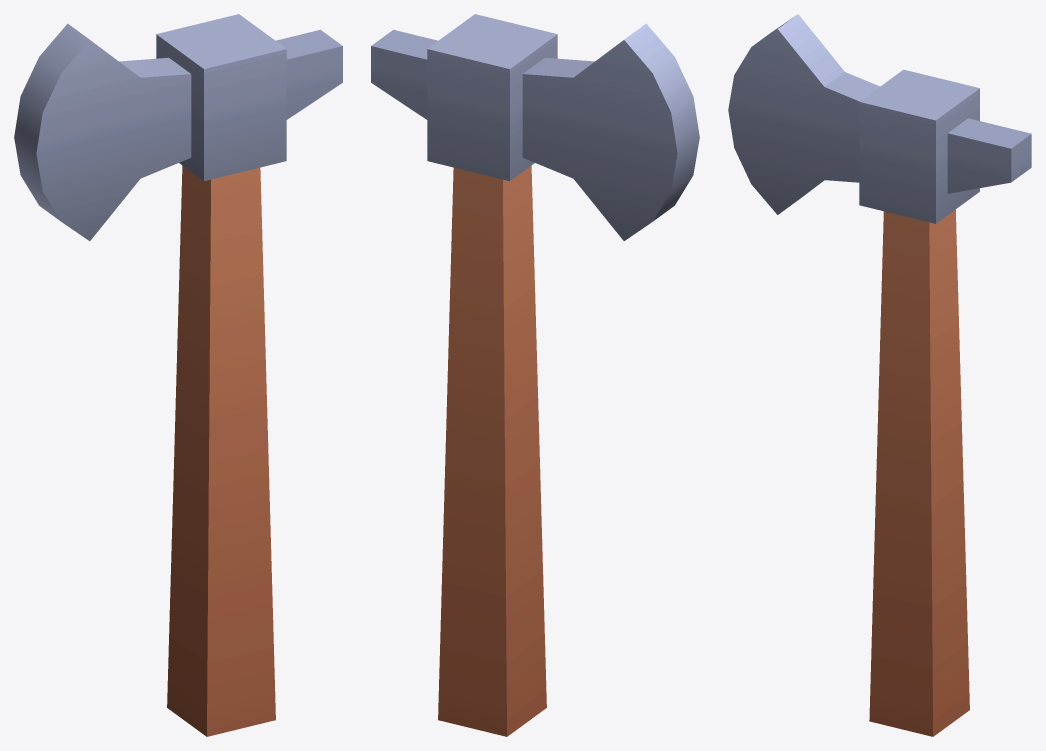
Rendered from surv.tool_axe.glb.
3 views of the same model, side by side, from view 1: azimuth 30°, elevation 25°; view 2: azimuth 150°, elevation 25°; view 3: azimuth 330°, elevation 25° (orthographic). The views are drawn at different scales.
Visible parts, largest first — view 1: tool-axe; view 2: tool-axe; view 3: tool-axe.
Part boxes in pixels (bbox=[...]): tool-axe: bbox=[14, 14, 342, 736]; tool-axe: bbox=[371, 14, 699, 736]; tool-axe: bbox=[728, 14, 1031, 736].
Bounding box in the file's own units: 0.2995 × 0.6698 × 0.0809.
1 material, 1 textured.
